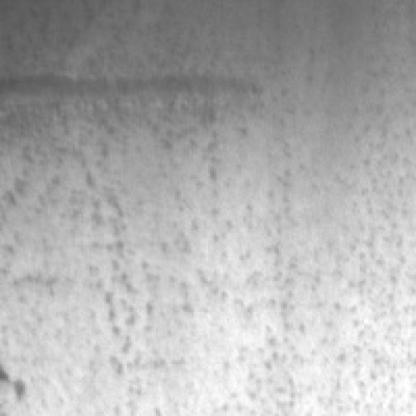pitted_surface: (6, 12, 414, 412)
